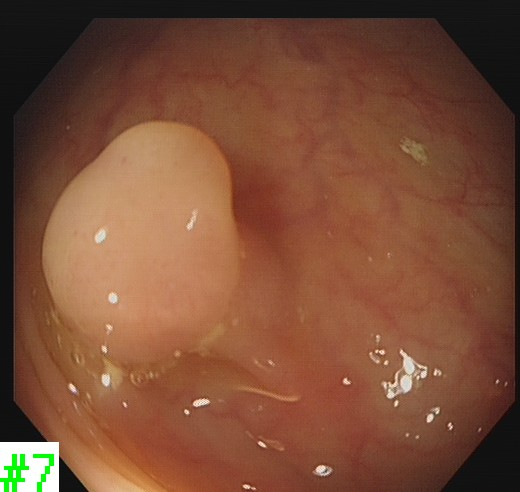adenoma: (38, 118, 245, 360)
